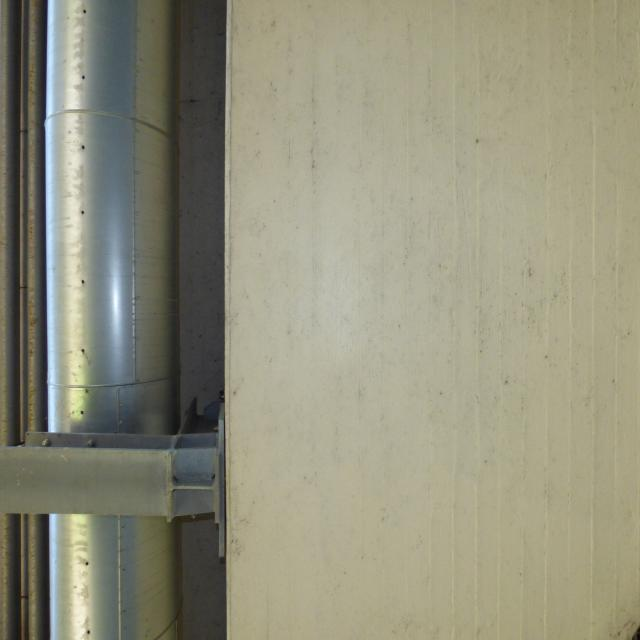corrosion: (0, 0, 52, 433), (0, 510, 50, 640)
